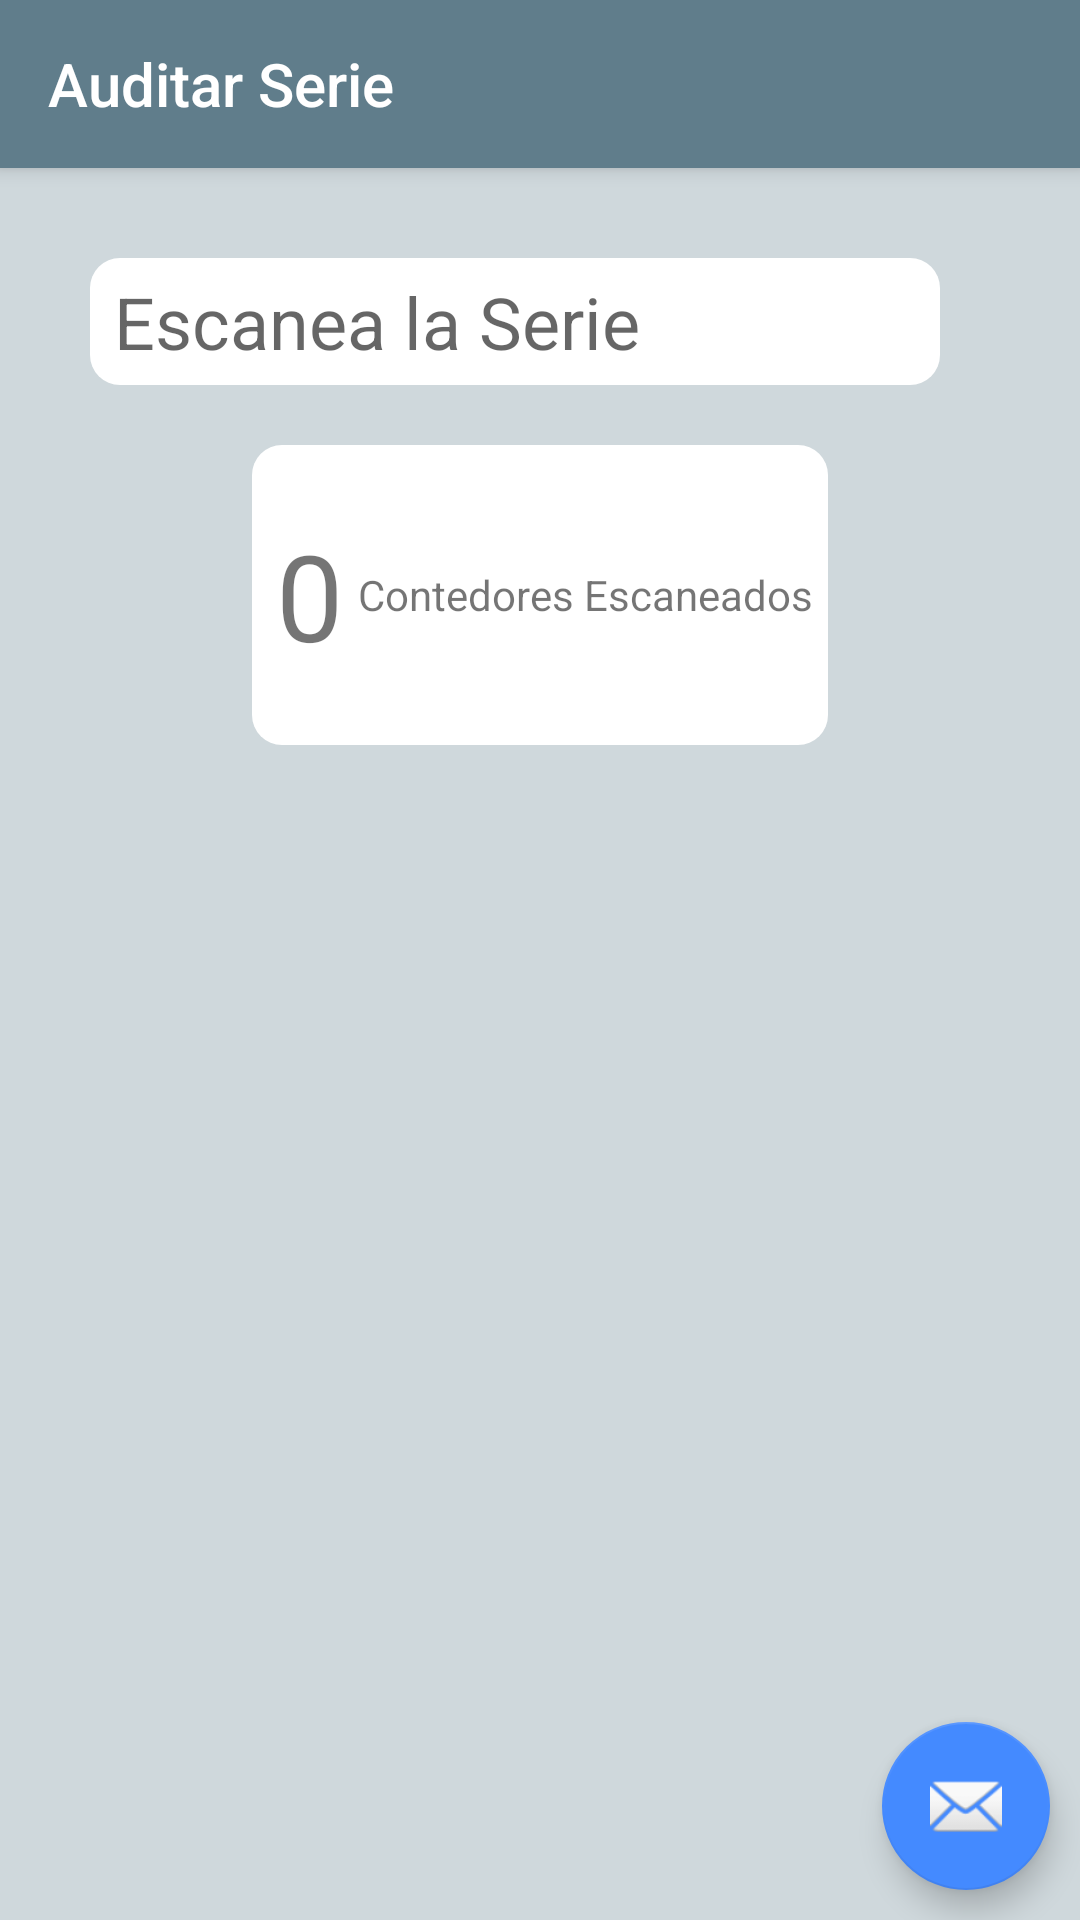

Where to tap for icons on this 1080×1920 app screen, as point (x, y):
email: point (966, 1806)
